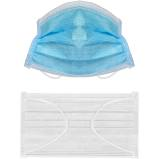cloth_mask: (18, 89, 142, 159)
